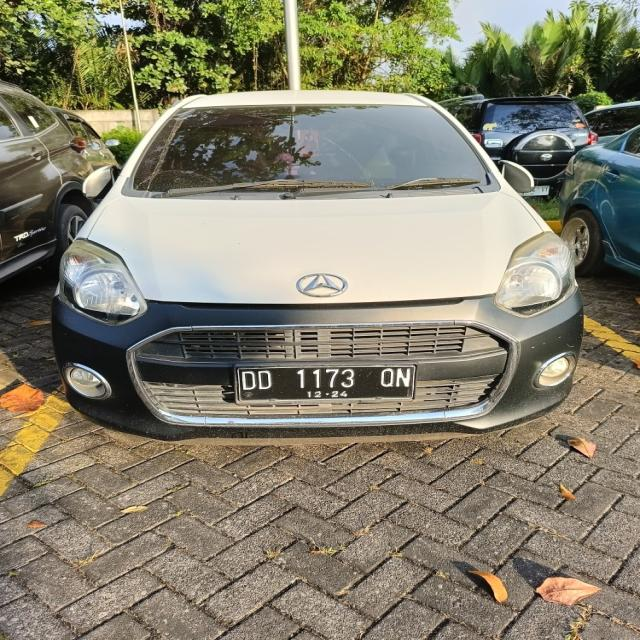plates: (230, 368, 433, 400)
